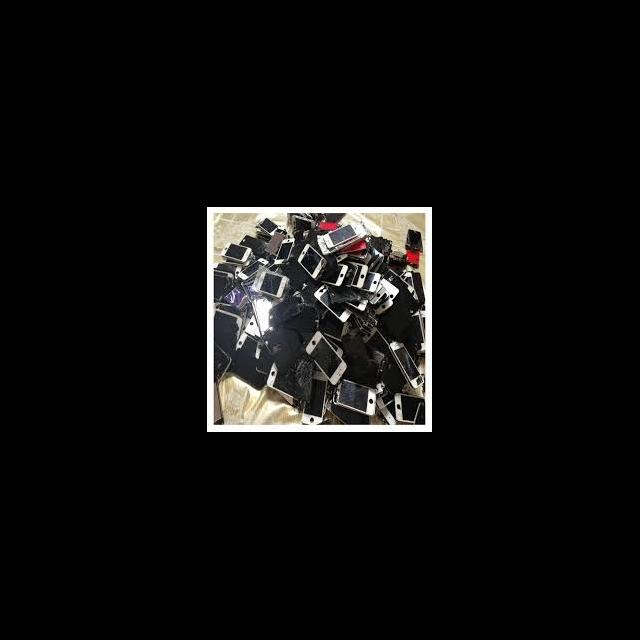metal: (300, 326, 348, 384), (382, 338, 426, 392), (328, 372, 379, 418), (264, 356, 310, 404), (294, 366, 332, 424), (312, 218, 368, 256), (311, 278, 354, 322), (294, 240, 328, 282), (252, 268, 288, 298), (234, 252, 270, 280), (220, 238, 252, 264)
